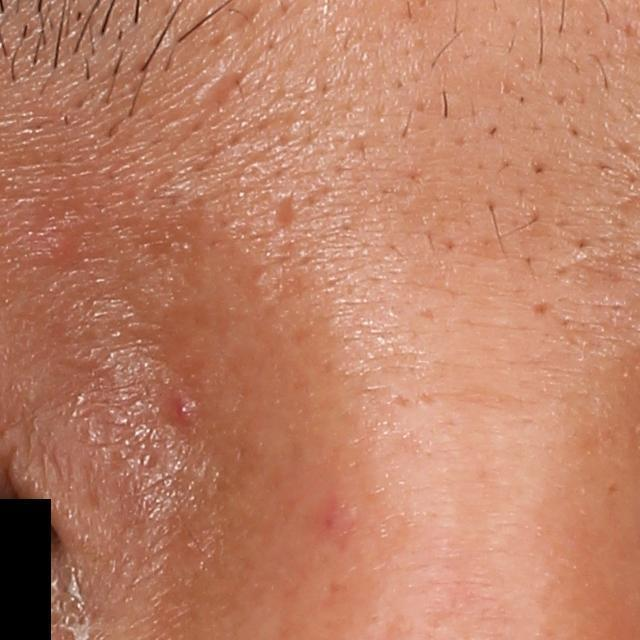atrophic_scar: (182, 56, 257, 136), (274, 191, 300, 231)
papule: (167, 391, 197, 424)
